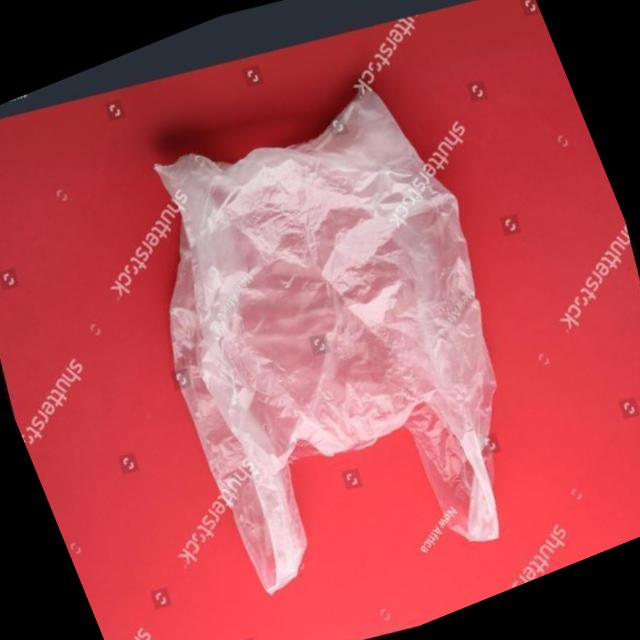KantongPlastik: (92, 61, 582, 631)
